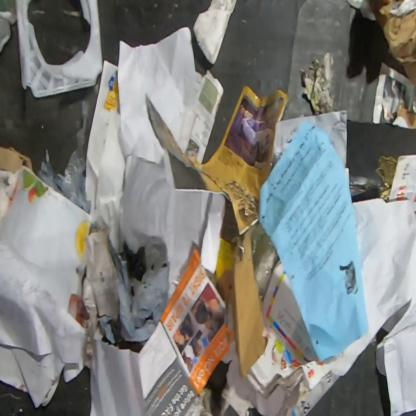cardboard: (245, 261, 331, 401), (230, 225, 268, 379), (82, 227, 118, 370), (375, 0, 415, 88), (192, 0, 239, 66), (0, 145, 35, 175)
metal: (374, 154, 397, 202)
rigid_plastic: (14, 0, 104, 99)
soft_plastic: (96, 234, 172, 345), (36, 97, 92, 213), (251, 219, 281, 301)
